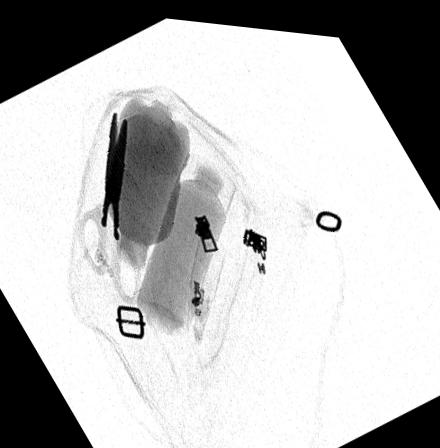Scissors: (69, 103, 149, 306)
